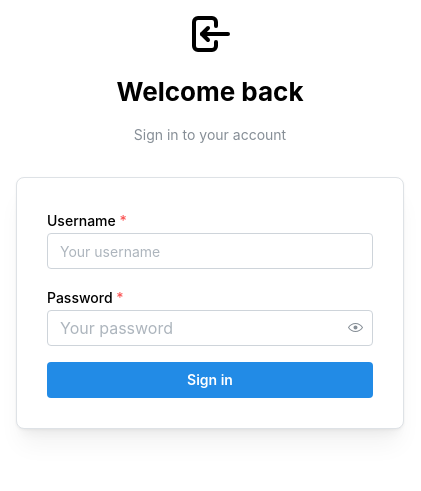
Login Component › should display error message on login failure
Type "testuser" into the field with placeholder "Your username" at (210, 251), box [47, 233, 373, 269]
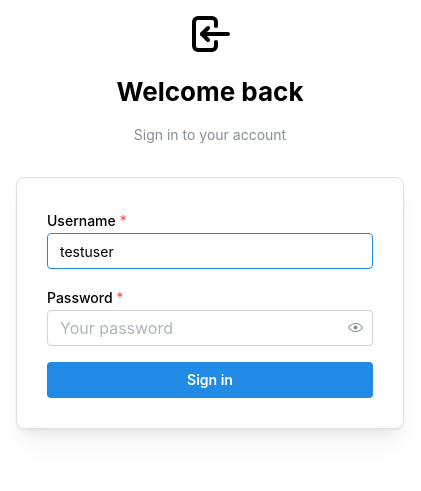
Type "wrongpassword" into the password field with placeholder "Your password" at (210, 328), box [48, 311, 372, 345]
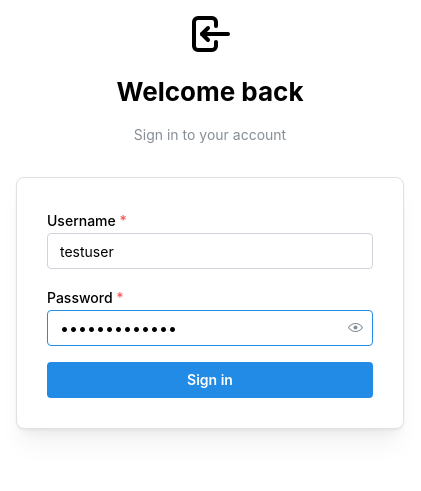
Click the button "Sign in" at (210, 380), box [47, 362, 373, 398]
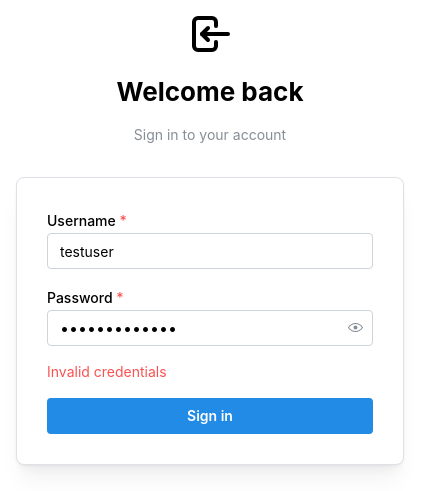
expect the text "Invalid credentials" is shown: met, box [47, 363, 167, 380]
